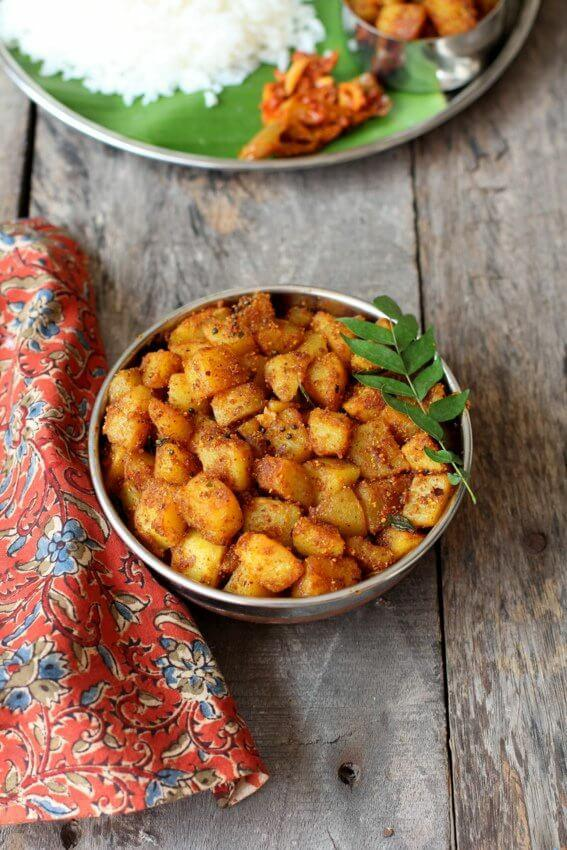AlooMasala: (101, 290, 456, 600), (346, 0, 495, 42)
WhiteRice: (0, 0, 322, 107)
